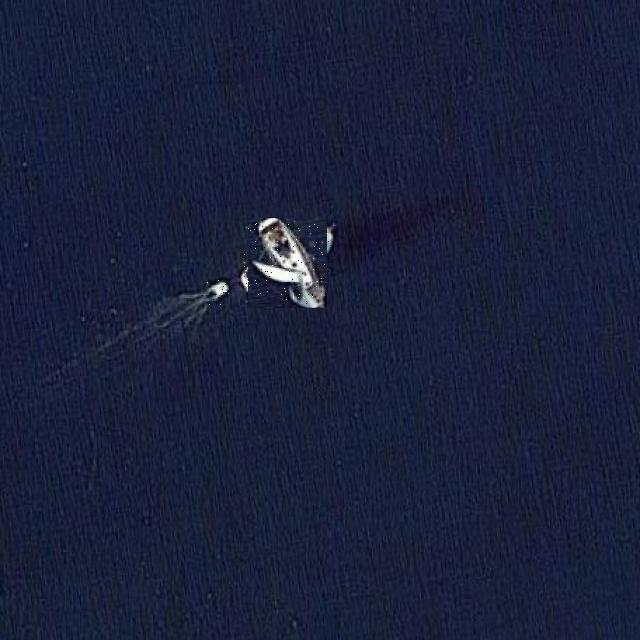boat: (244, 221, 330, 305), (202, 280, 229, 306)
